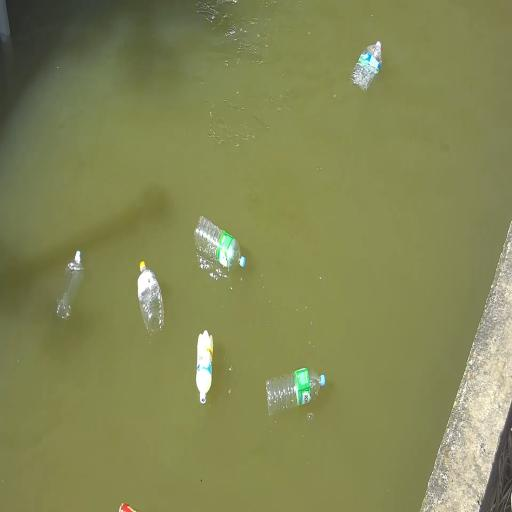plastic: (195, 216, 245, 270), (267, 368, 325, 414), (138, 261, 164, 332), (57, 251, 83, 319), (351, 41, 381, 91), (196, 330, 213, 403), (119, 503, 135, 511)
